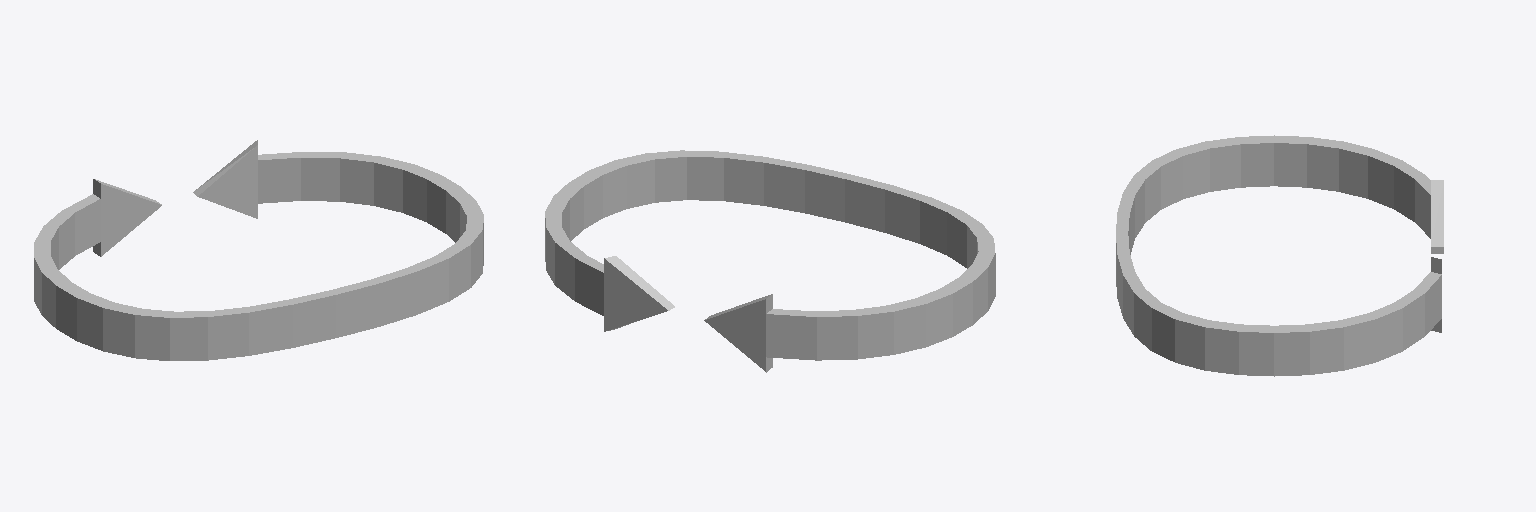
File: Arrow_5.obj
The picture shows the model from 3 angles: view 1: azimuth 30°, elevation 25°; view 2: azimuth 150°, elevation 25°; view 3: azimuth 270°, elevation 25°; orthographic projection.
Parts seen in each view (by area): view 1: Arrow_5; view 2: Arrow_5; view 3: Arrow_5.
Part boxes in pixels (bbox=[...]): Arrow_5: bbox=[34, 140, 483, 360]; Arrow_5: bbox=[545, 150, 995, 372]; Arrow_5: bbox=[1116, 135, 1443, 376].
Size of the model in its own units: 3.34 by 0.5801 by 2.34.